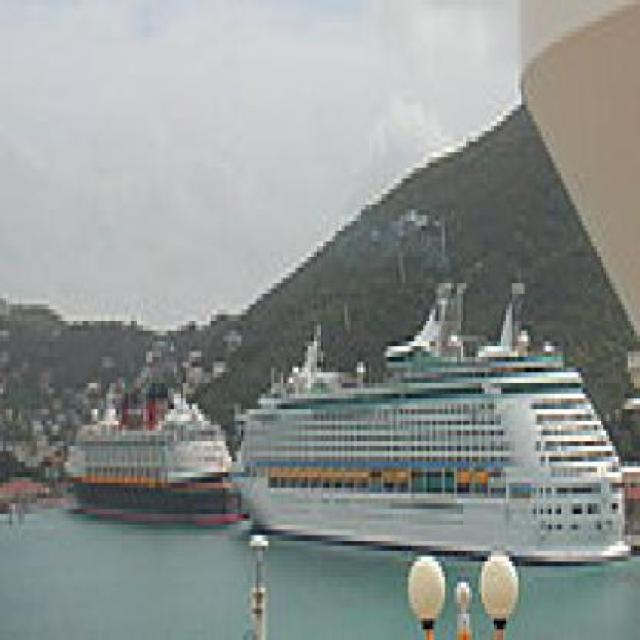cruise: (230, 269, 639, 589), (59, 368, 254, 536)
